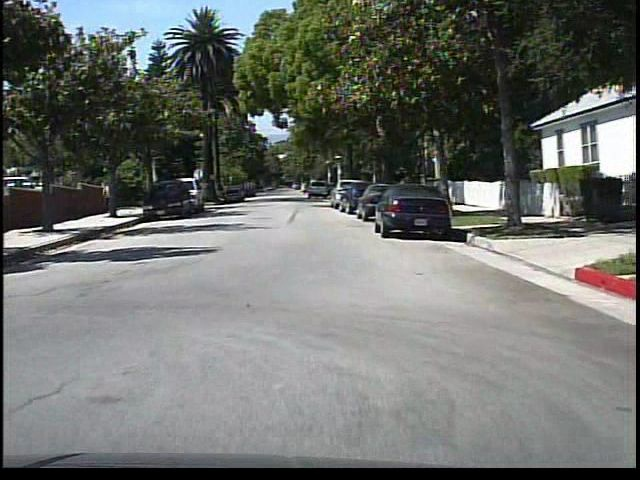person: (98, 177, 115, 216)
